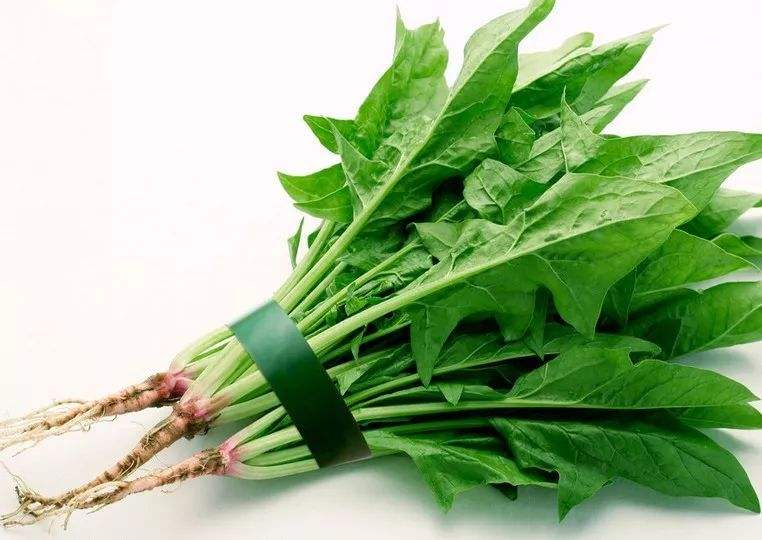bocai: (376, 357, 758, 500), (401, 174, 696, 338), (34, 347, 238, 514), (399, 21, 613, 156)
